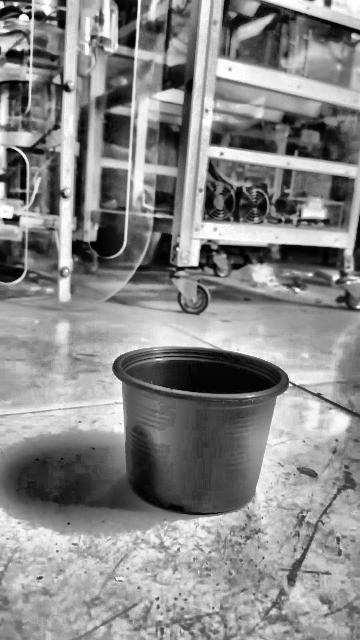pot: (113, 347, 287, 515)
